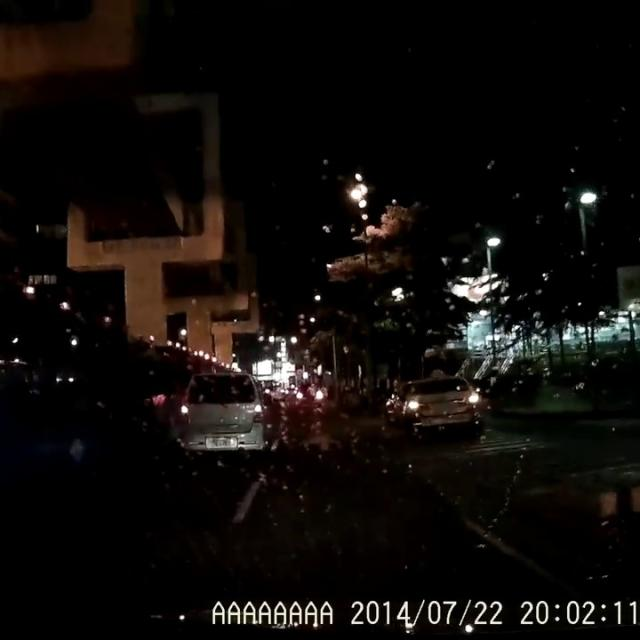Car: (175, 370, 270, 452), (381, 372, 486, 439)
